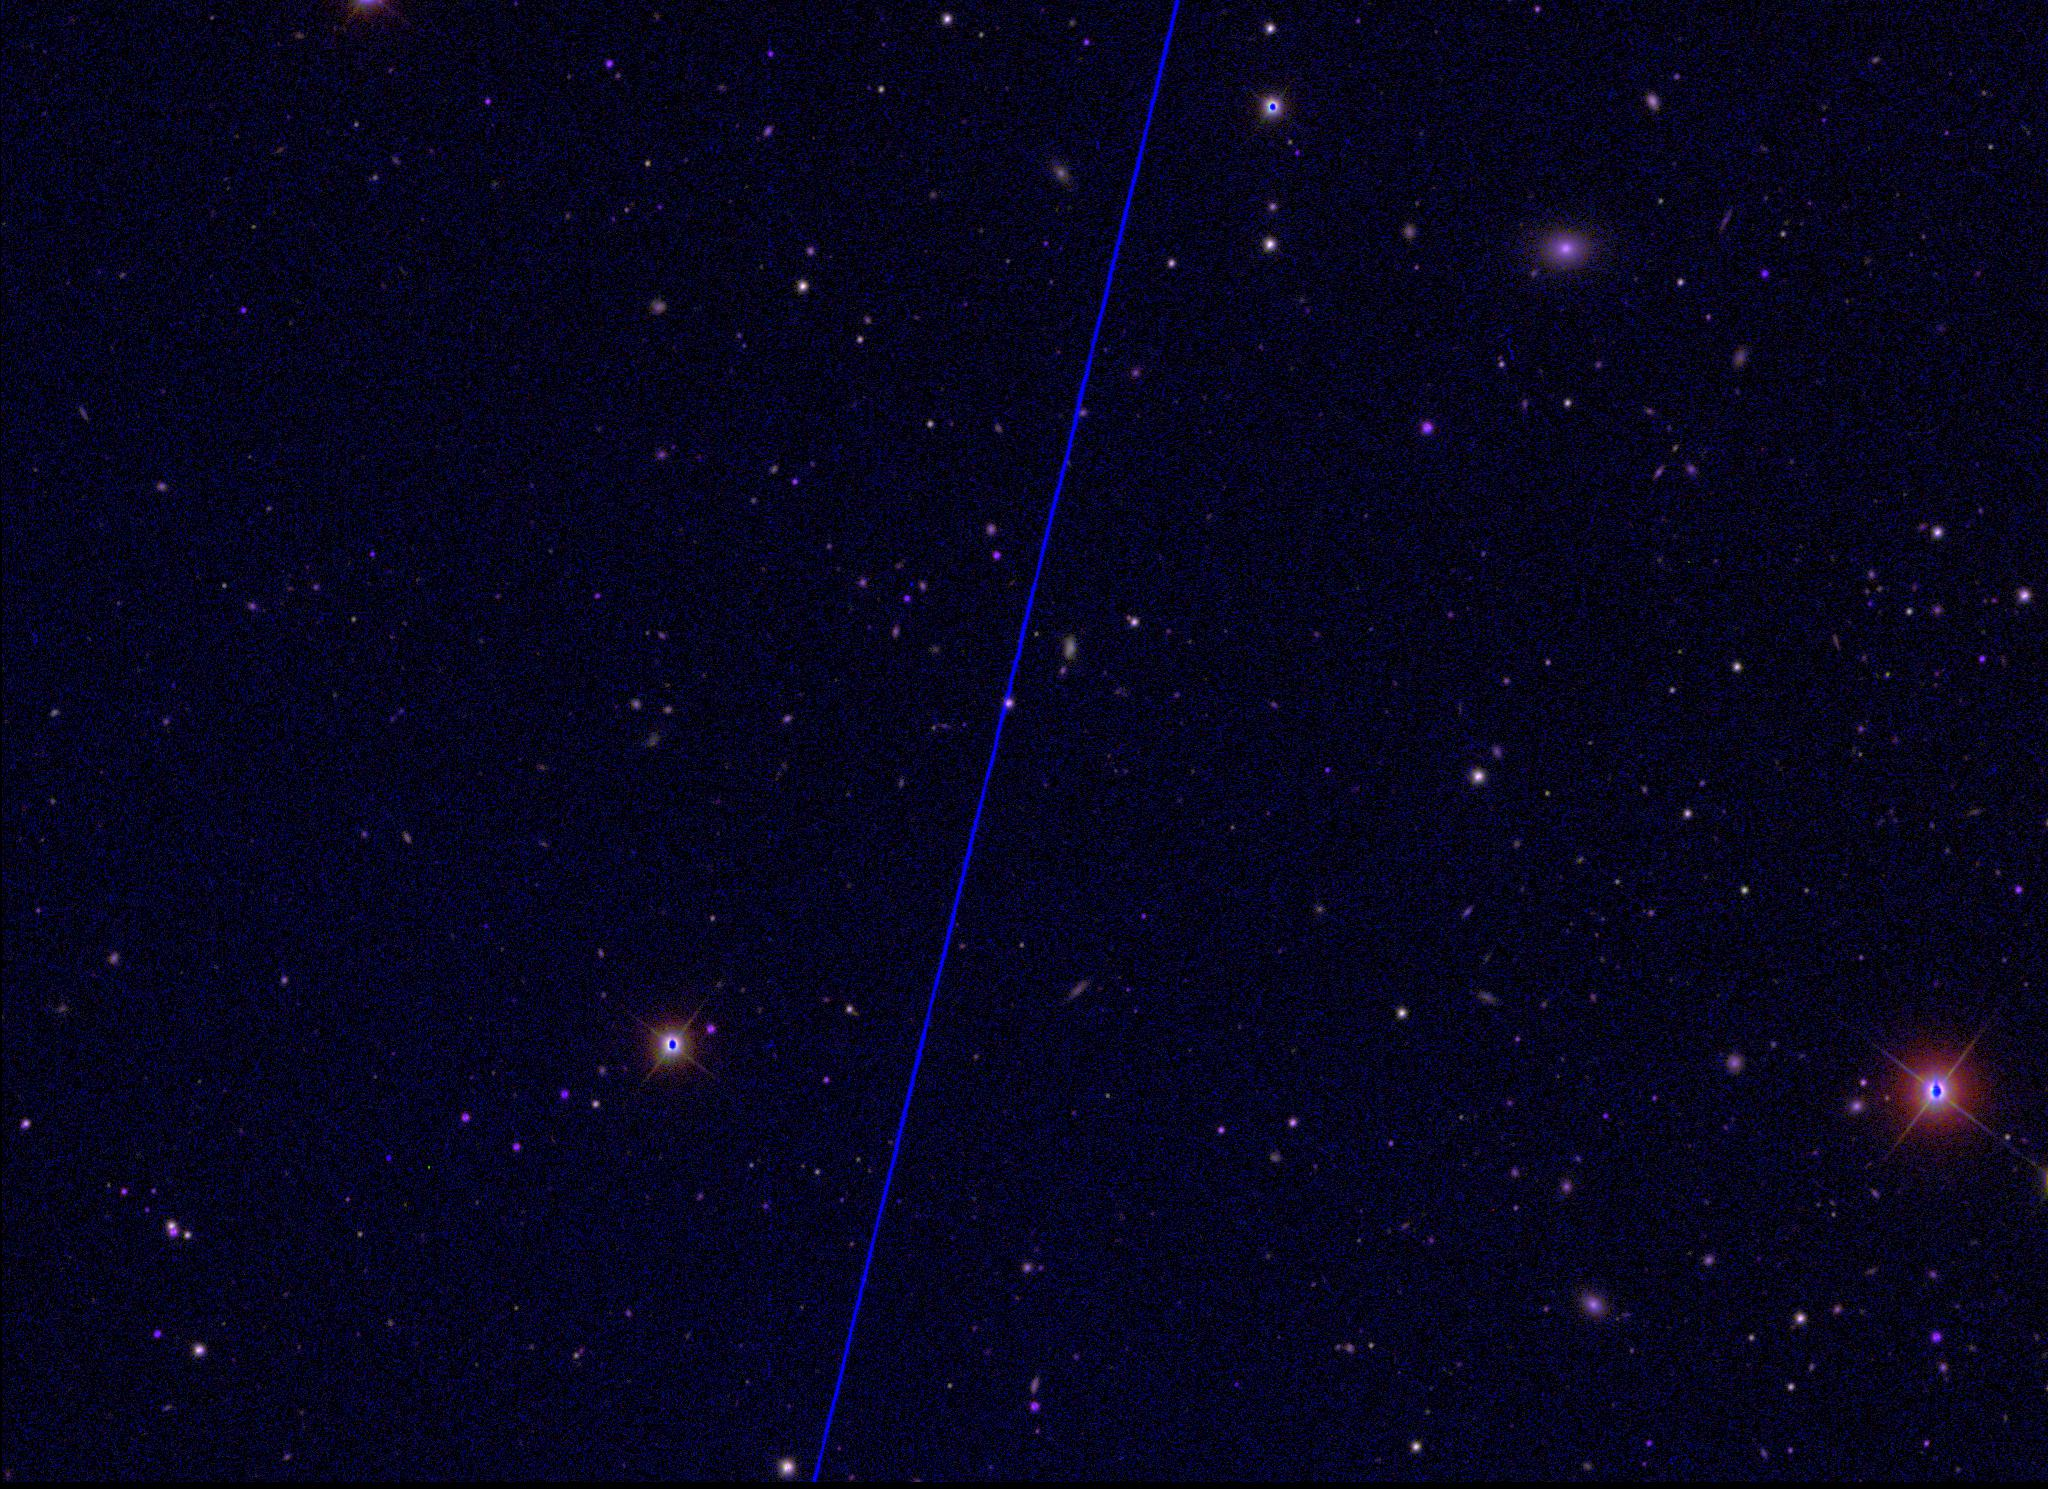L: (382, 1152, 396, 1164)
